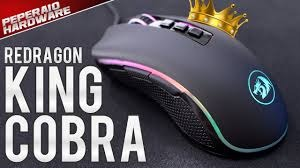mouse: (95, 12, 299, 166)
